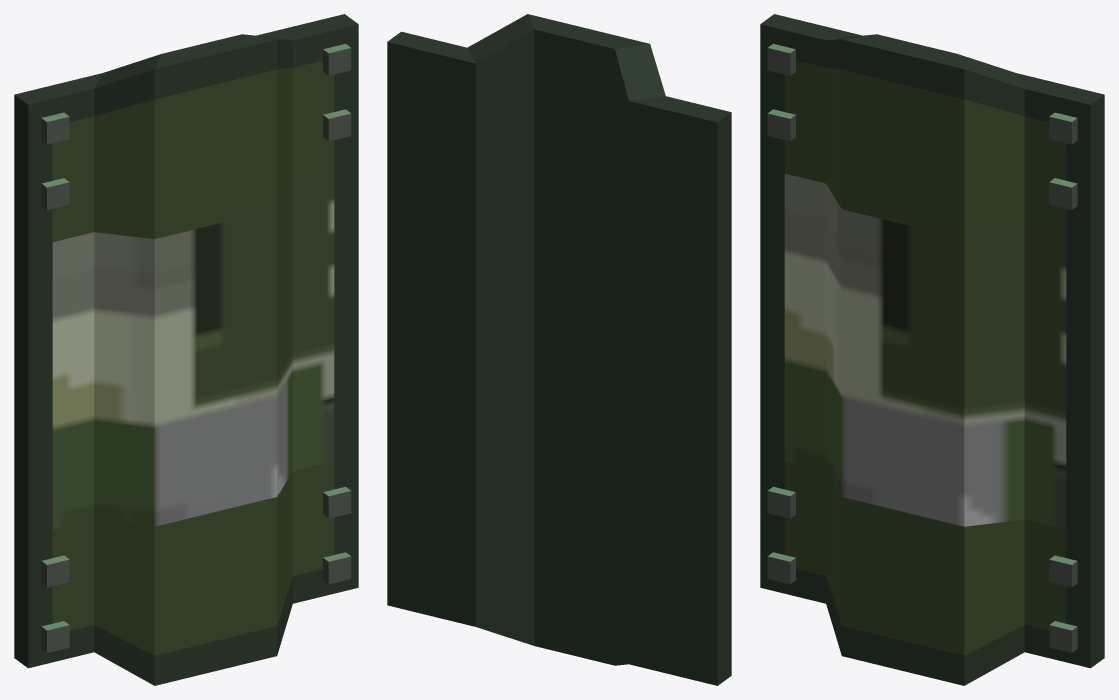
Rendered from SF_Wep_TowerShield_011.glb.
3 views of the same model, side by side, from view 1: azimuth 30°, elevation 25°; view 2: azimuth 150°, elevation 25°; view 3: azimuth 330°, elevation 25° (orthographic).
Visible parts, largest first — view 1: SF_Wep_TowerShield_011; view 2: SF_Wep_TowerShield_011; view 3: SF_Wep_TowerShield_011.
Part boxes in pixels (left/top/right/bottom): SF_Wep_TowerShield_011: left=14, top=14, right=358, bottom=685; SF_Wep_TowerShield_011: left=387, top=14, right=731, bottom=685; SF_Wep_TowerShield_011: left=760, top=14, right=1104, bottom=685.
Size of the model in its own units: 0.0133 by 0.0237 by 0.00254.
1 material, 1 textured.
